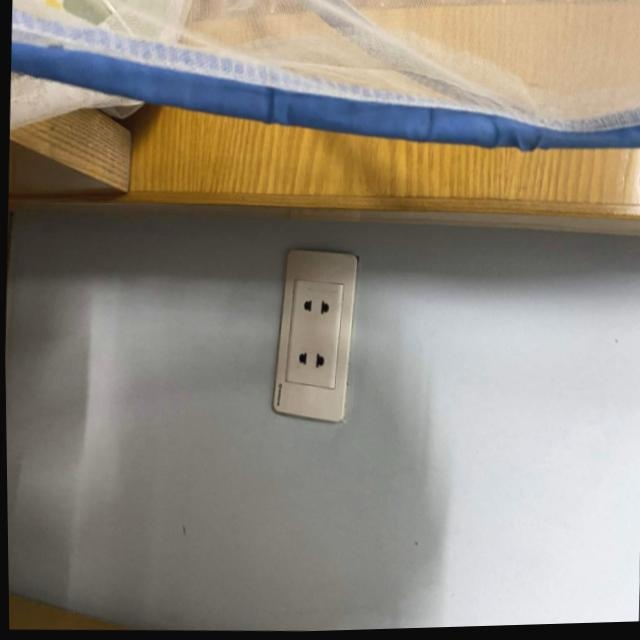outlet: (267, 245, 360, 425)
